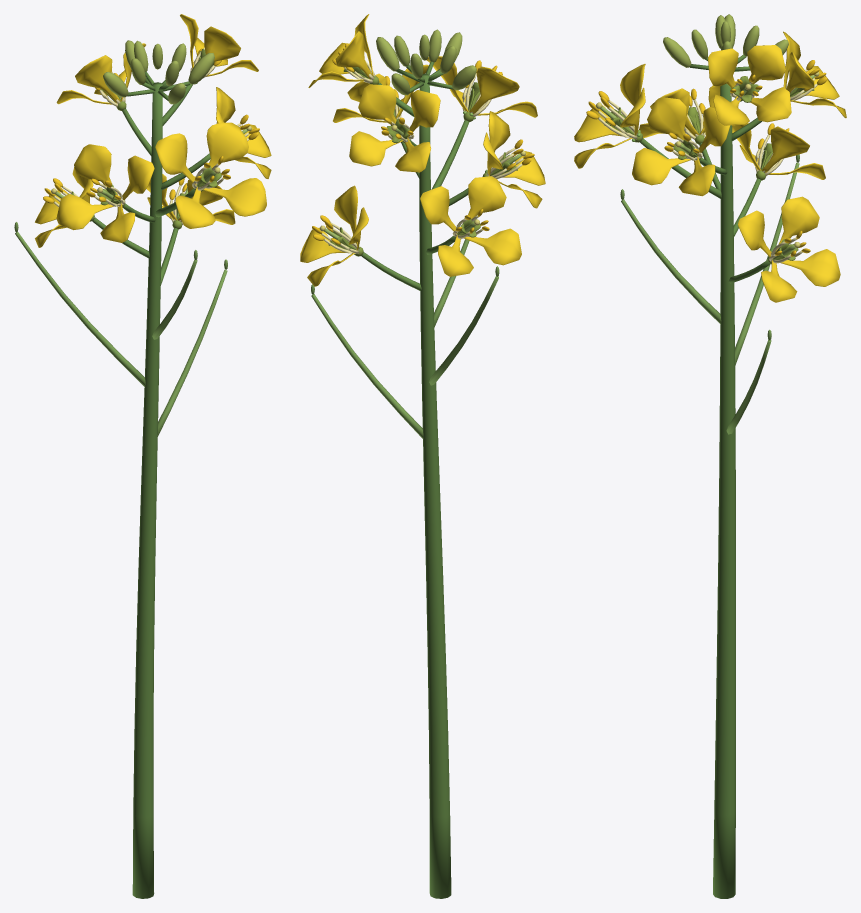
Rendered from flower-brassica.glb.
3 views of the same model, side by side, from view 1: azimuth 30°, elevation 25°; view 2: azimuth 150°, elevation 25°; view 3: azimuth 270°, elevation 25° (orthographic). The views are drawn at different scales.
Parts seen in each view (by area): view 1: raceme_flowers, stem, hero_petals, buds, pods; view 2: raceme_flowers, stem, buds, pods, hero_petals; view 3: raceme_flowers, stem, pods, hero_petals, buds, hero_stamens.
Part boxes in pixels (left/top/right/bottom): raceme_flowers: left=35, top=14, right=271, bottom=285; stem: left=132, top=82, right=162, bottom=898; hero_petals: left=155, top=122, right=266, bottom=228; buds: left=103, top=40, right=214, bottom=104; pods: left=14, top=222, right=227, bottom=436; raceme_flowers: left=300, top=14, right=545, bottom=290; stem: left=419, top=73, right=451, bottom=898; buds: left=376, top=29, right=476, bottom=95; pods: left=311, top=169, right=499, bottom=438; hero_petals: left=426, top=56, right=537, bottom=117; raceme_flowers: left=632, top=31, right=846, bottom=302; stem: left=713, top=83, right=735, bottom=898; pods: left=620, top=154, right=799, bottom=434; hero_petals: left=574, top=64, right=645, bottom=168; buds: left=663, top=14, right=788, bottom=71; hero_stamens: left=586, top=91, right=637, bottom=139.
Size of the model in its own units: 3.51 by 13.68 by 3.83.
